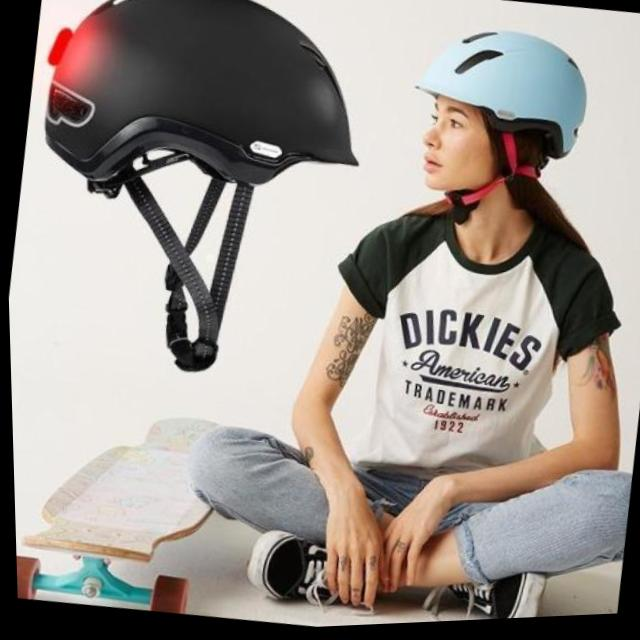helmet: (391, 20, 602, 248)
